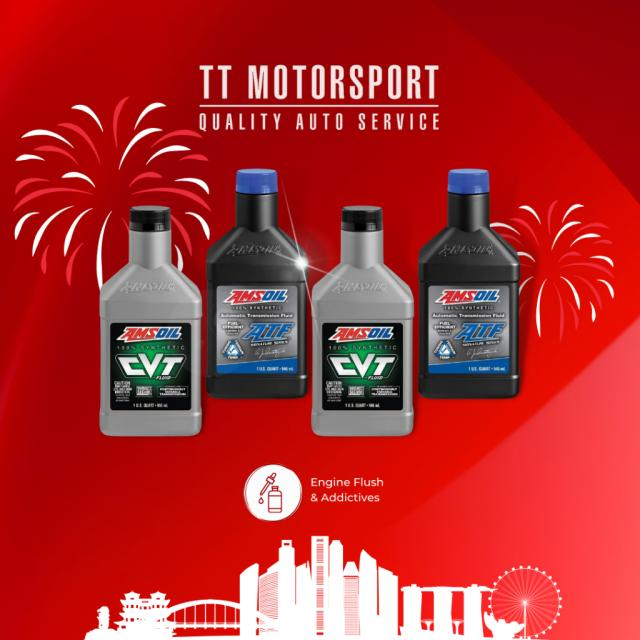-oil-: (89, 204, 204, 442), (209, 169, 313, 398), (427, 166, 522, 406), (321, 203, 415, 441)
